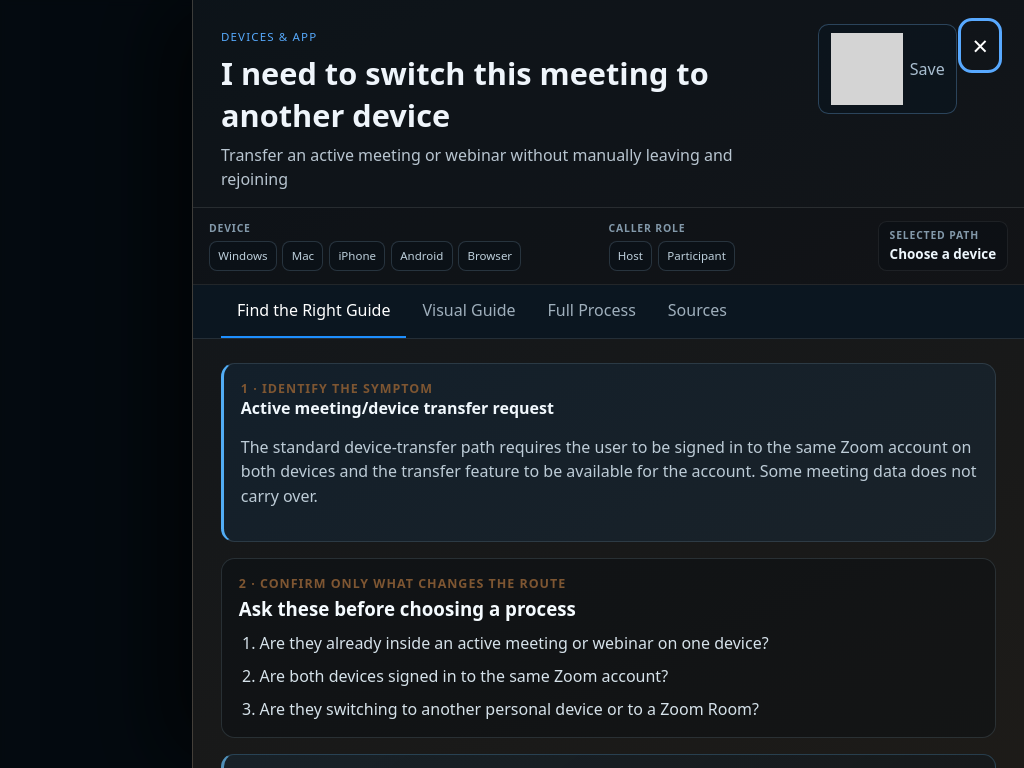
Scenario: renders a bundled source-verified visual for transfer-device
Click the tab "Visual Guide": (469, 311) 406,285 -> 532,338
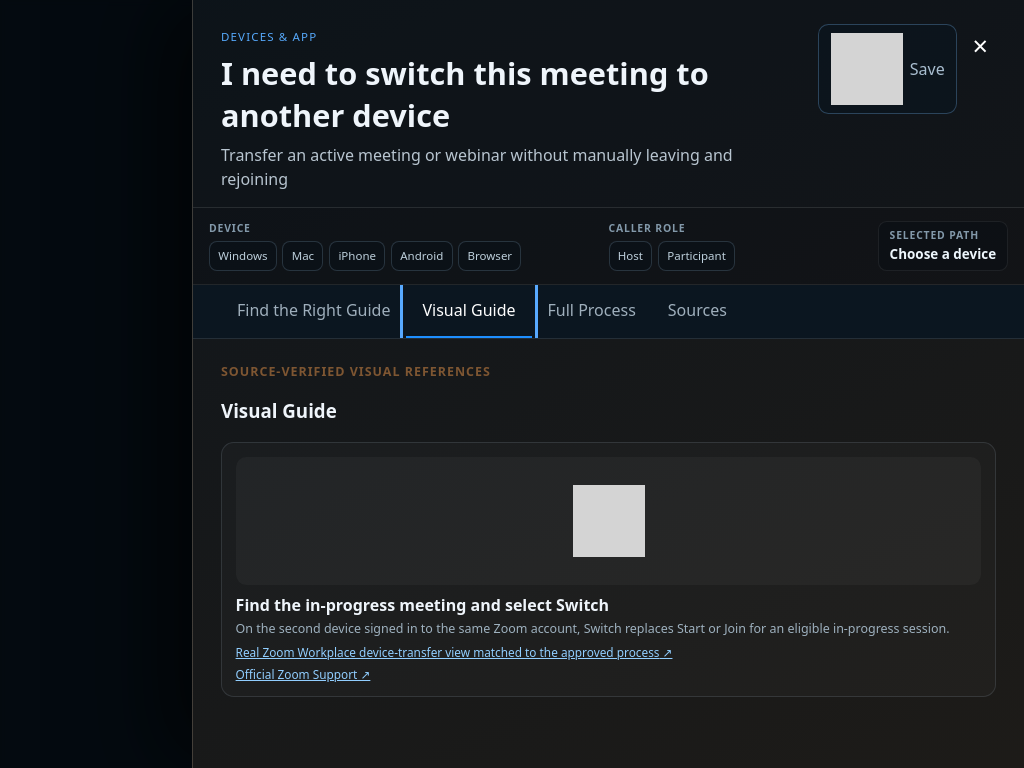
Check: the text "Find the in-progress meeting and select Switch" is shown, box 236,594 -> 609,616
